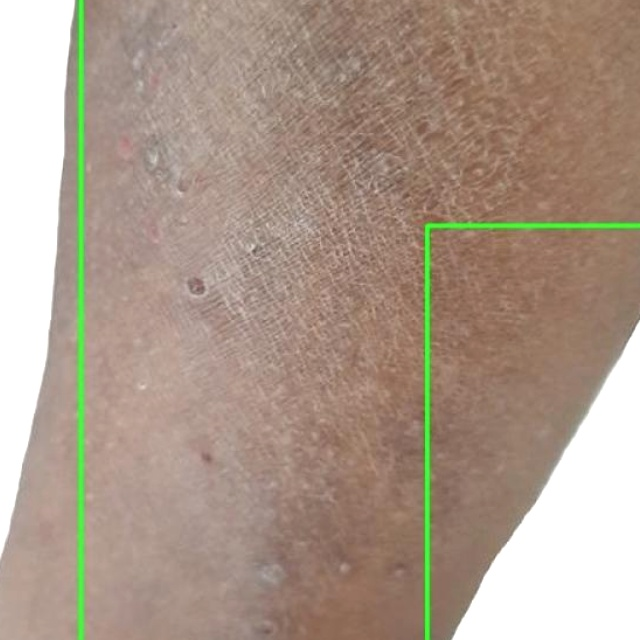Contact Dermatitis: (427, 225, 639, 639)
